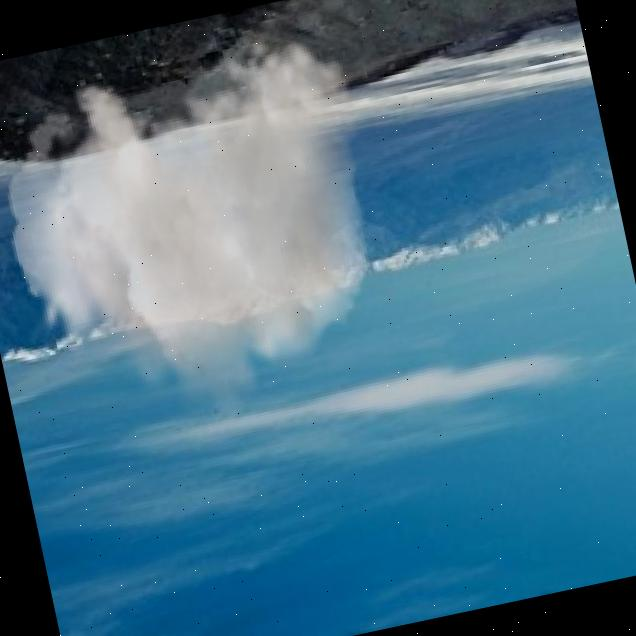smoke: (0, 19, 416, 462)
